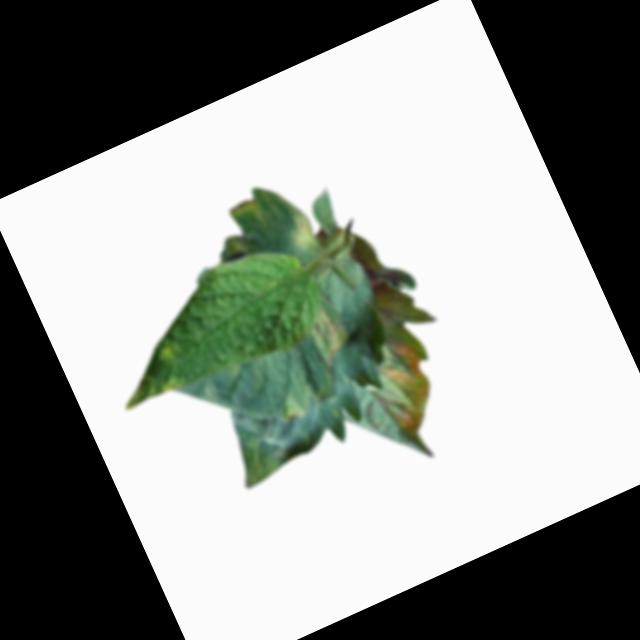Leaf_Mold: (360, 334, 448, 442), (298, 304, 353, 370), (278, 212, 324, 263), (224, 194, 266, 235), (275, 395, 309, 429), (159, 373, 186, 396)
